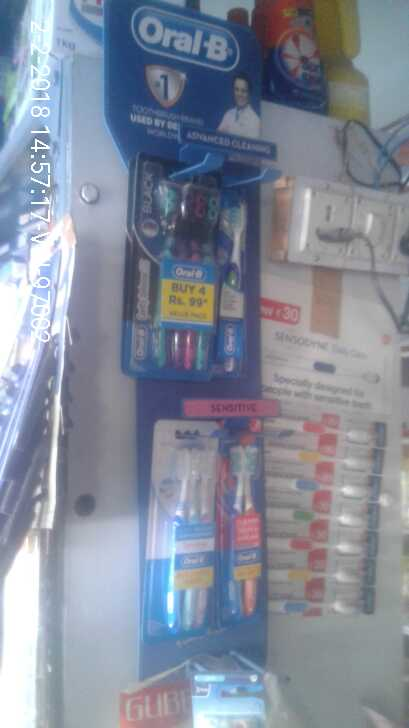oralb: (130, 153, 215, 375), (146, 418, 217, 635), (220, 425, 262, 623), (218, 174, 245, 374)
